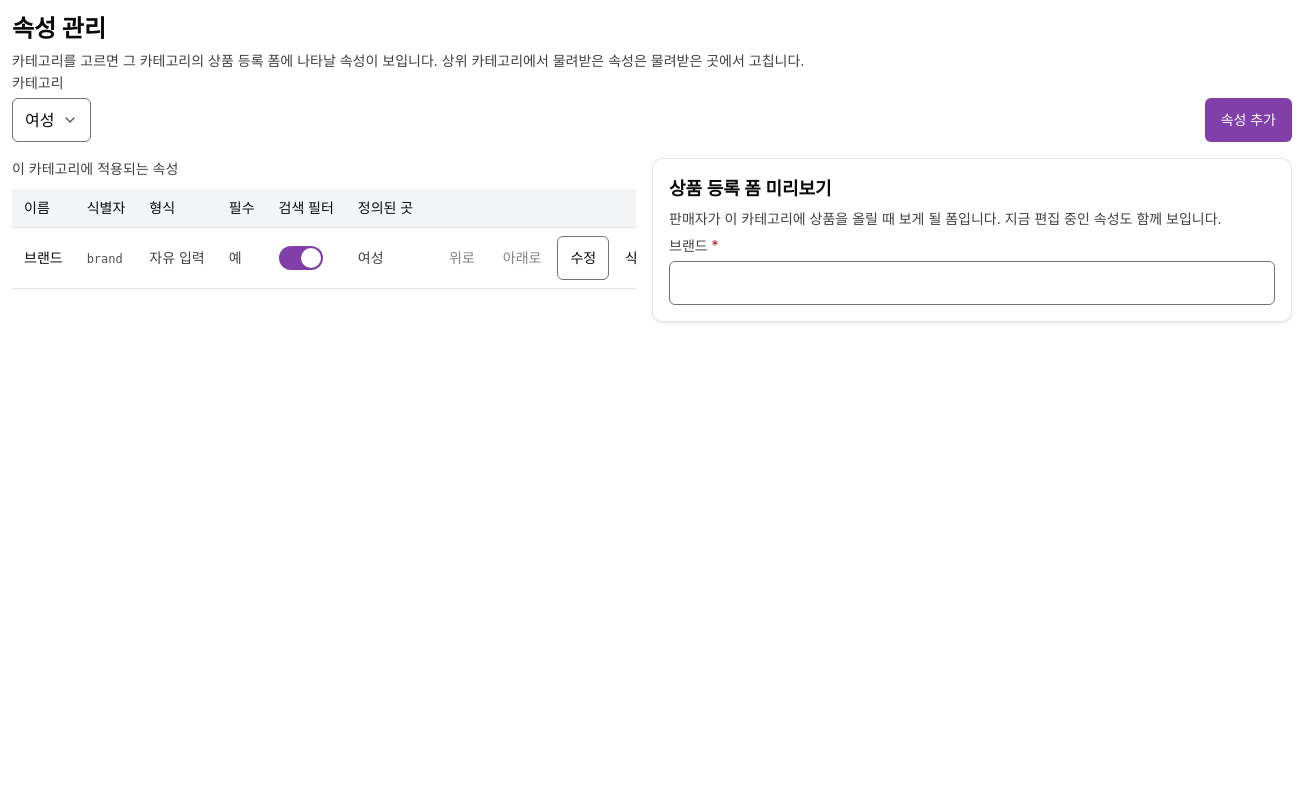
Test: the four states the list can be in (U1) › offers the first definition when a category has none
Click the dropdown named "카테고리" at (52, 120), box x1=12 y1=98 x2=92 y2=142
(page scrolled)
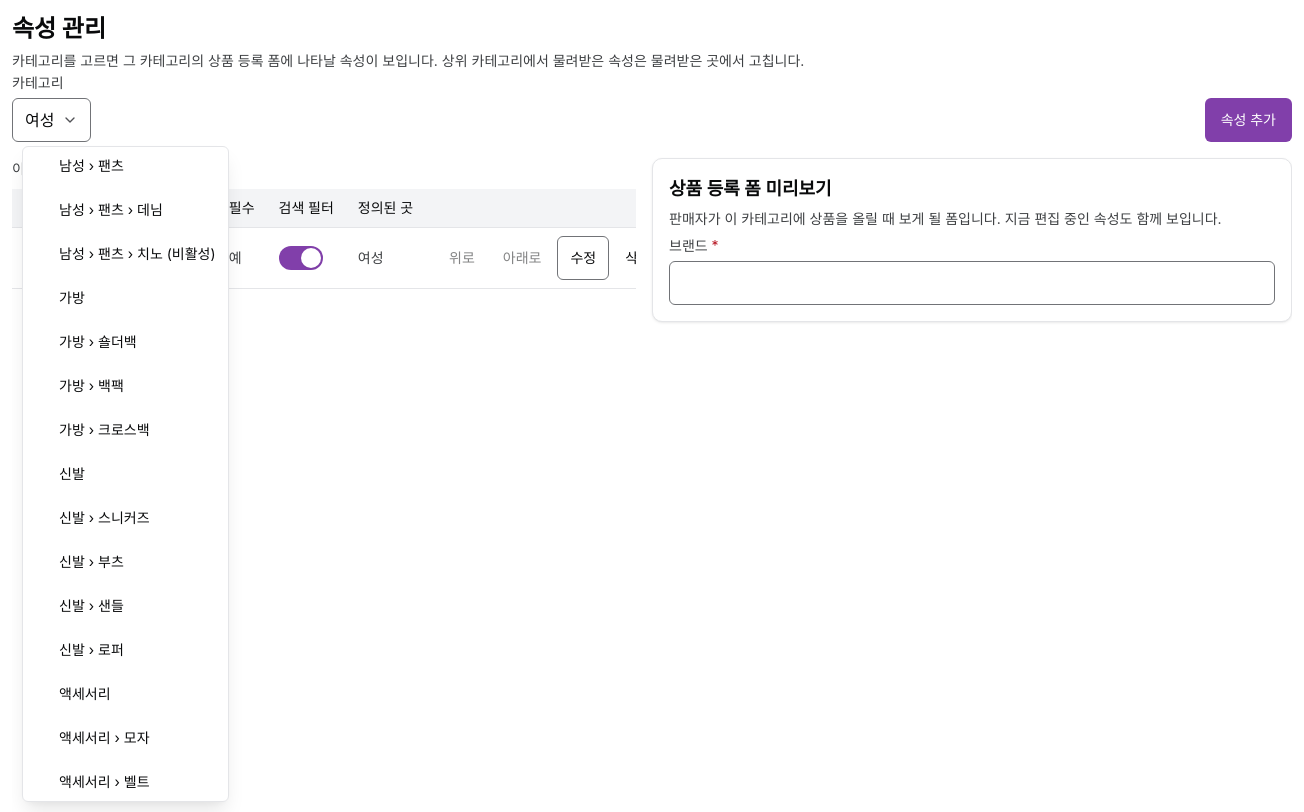
Click the option "신발" at (72, 473), box x1=59 y1=465 x2=85 y2=482
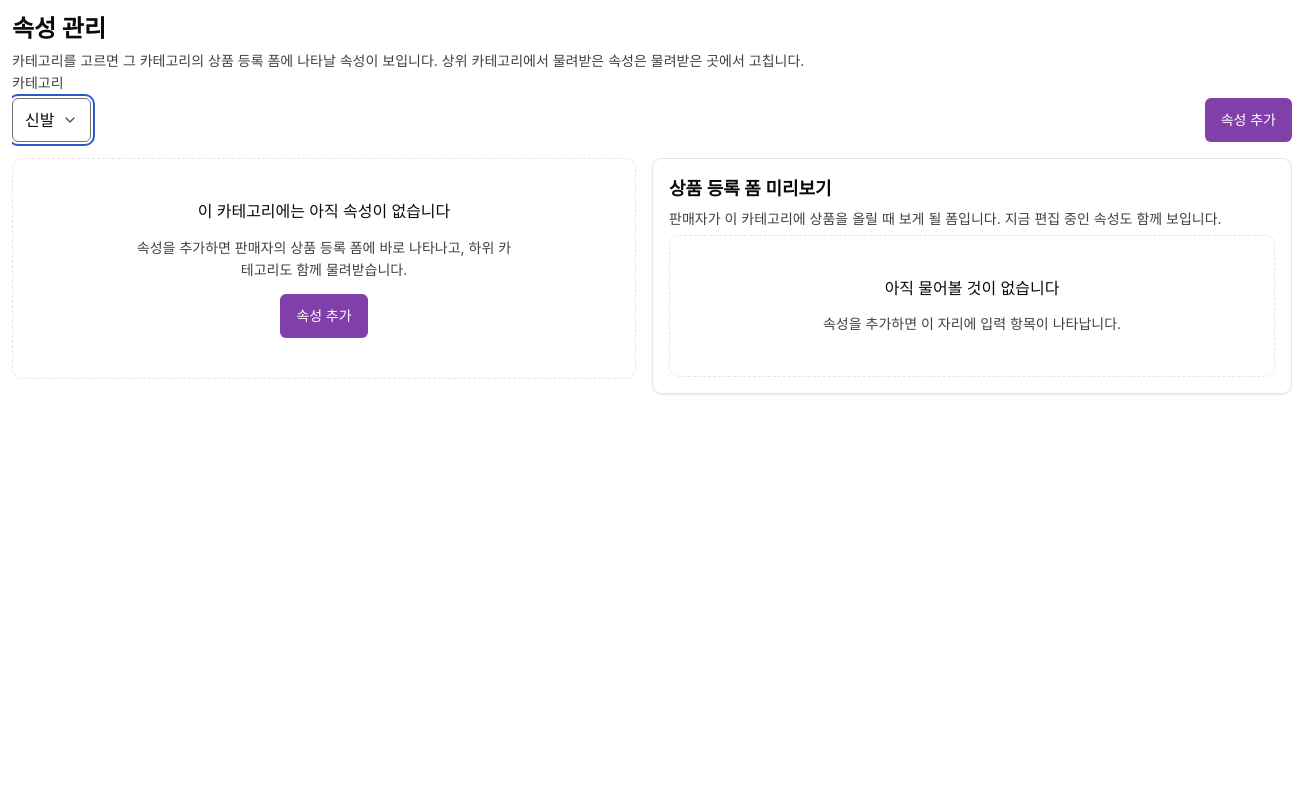
Expected: the 1st button "속성 추가" is shown, x1=1205 y1=98 x2=1292 y2=142
Expected: the text "이 카테고리에는 아직 속성이 없습니다" is shown, x1=198 y1=199 x2=450 y2=225
